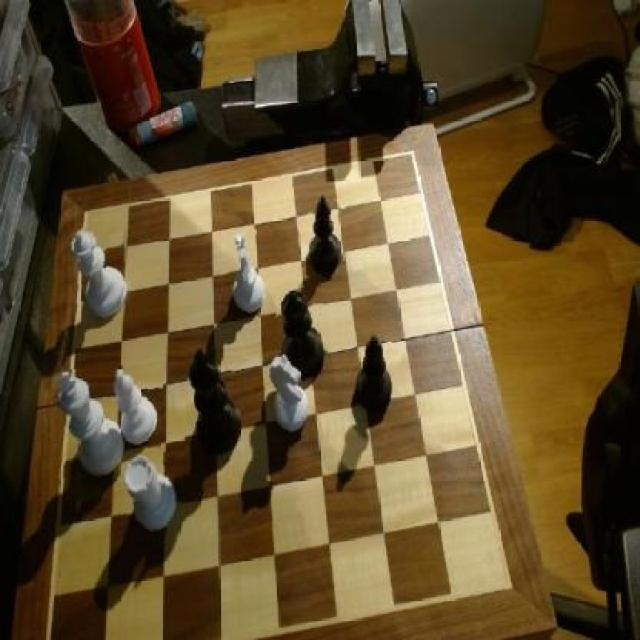bishop: (306, 191, 346, 278), (357, 337, 393, 419)
black-bishop: (185, 348, 246, 458)
black-pawn: (277, 289, 327, 382)
black-rook: (108, 366, 163, 448)
white-bishop: (54, 371, 128, 482)
white-king: (268, 356, 312, 436), (228, 229, 268, 317)
white-pawn: (71, 226, 128, 323)
white-queen: (123, 452, 182, 537)
